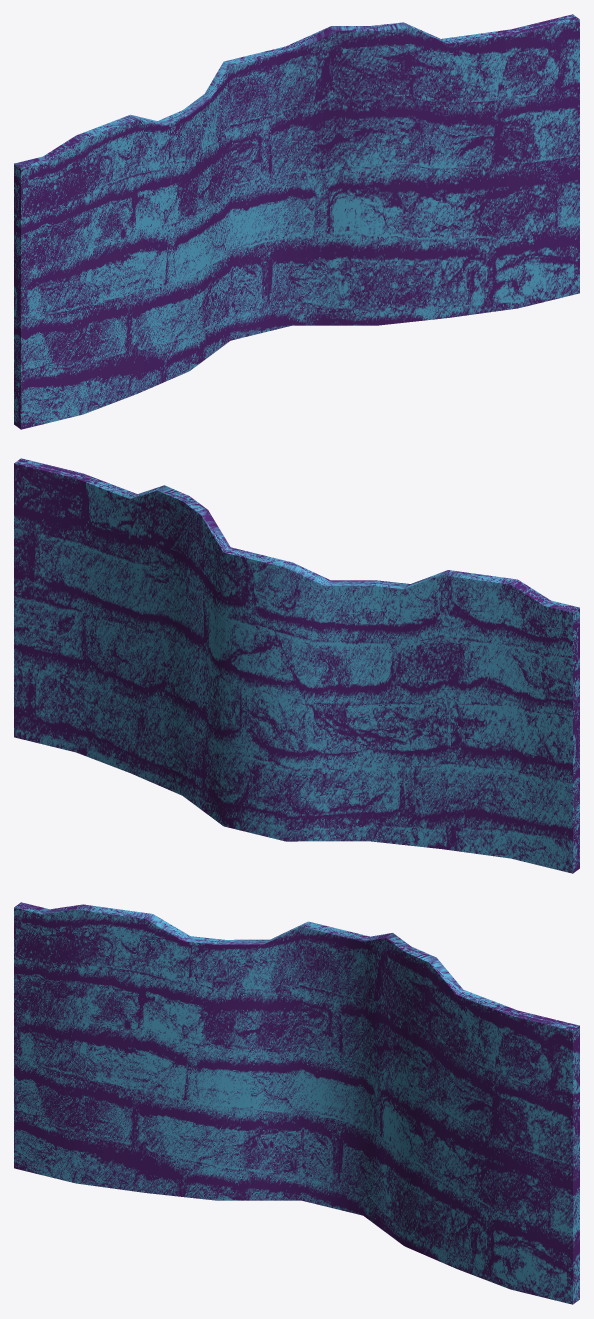
Rendered from testingtesttest.fbx.
3 renders of one model, top to bottom at view 1: azimuth 30°, elevation 25°; view 2: azimuth 150°, elevation 25°; view 3: azimuth 330°, elevation 25°, orthographic.
Parts seen in each view (by area): view 1: pCube1; view 2: pCube1; view 3: pCube1.
Boxes of the visible parts, <box> form: pCube1: <box>14,14,579,429</box>; pCube1: <box>14,458,579,873</box>; pCube1: <box>14,902,579,1304</box>.
Size of the model in its own units: 2372 by 1194 by 338.
1 material, 1 textured.
